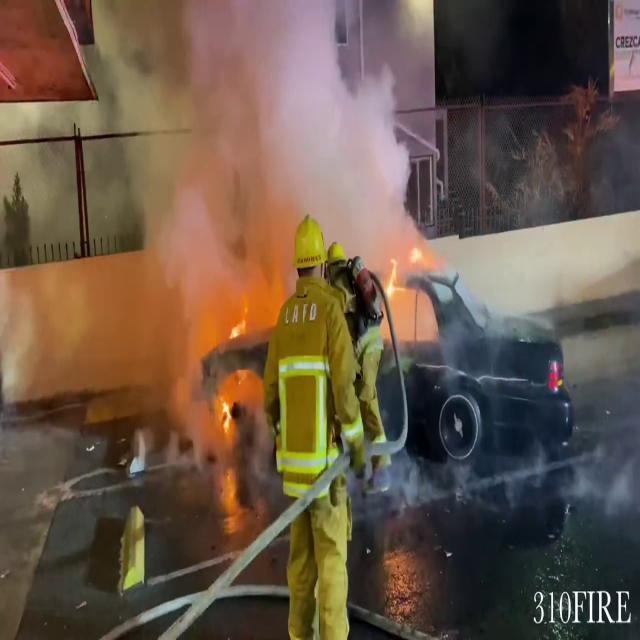Smoke: (2, 1, 424, 482)
